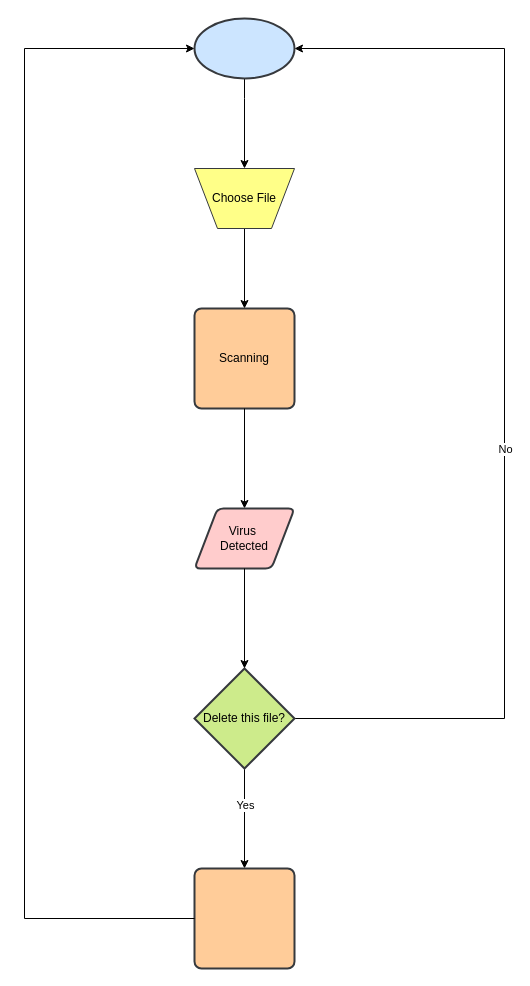
Some shapes in this 530 by 986 pixel diagram are drawn without their labels. Each missing label, with the centre of its shape:
"Delete the file" goes at point 244,918.
"Start" goes at point 244,48.
